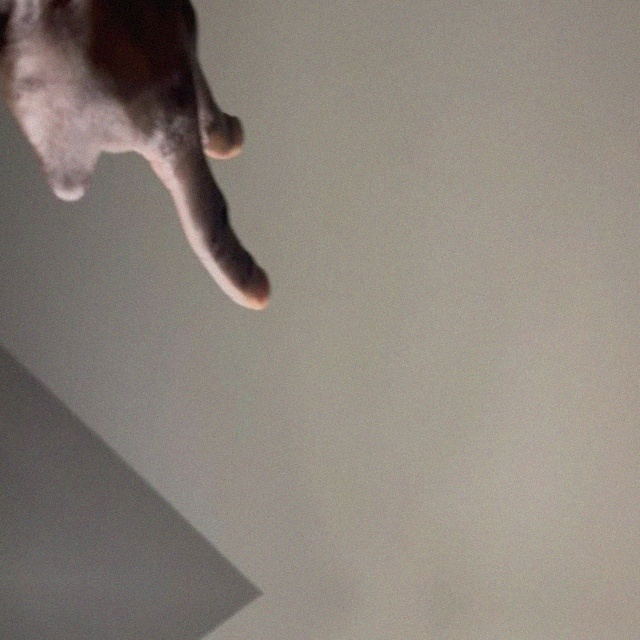Scissors: (0, 0, 303, 315)
